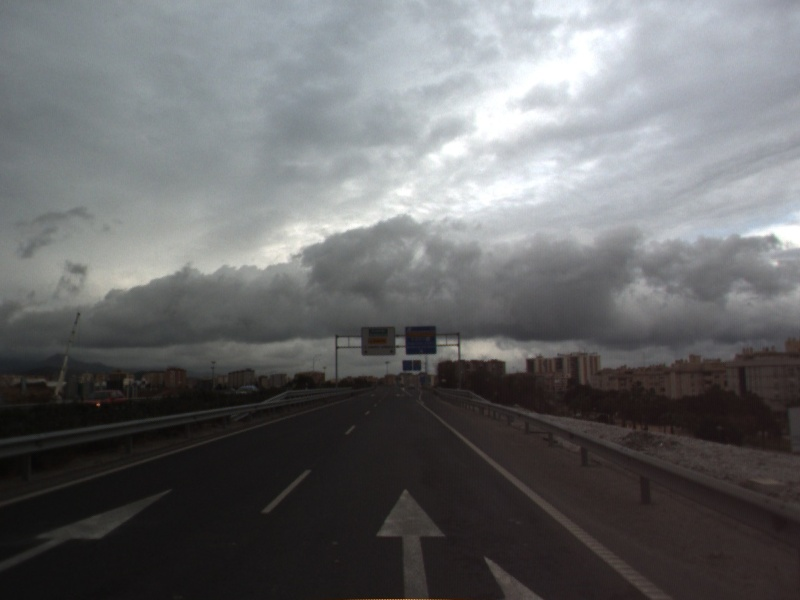STRAIGHT: (1, 484, 178, 572), (373, 484, 449, 600)
